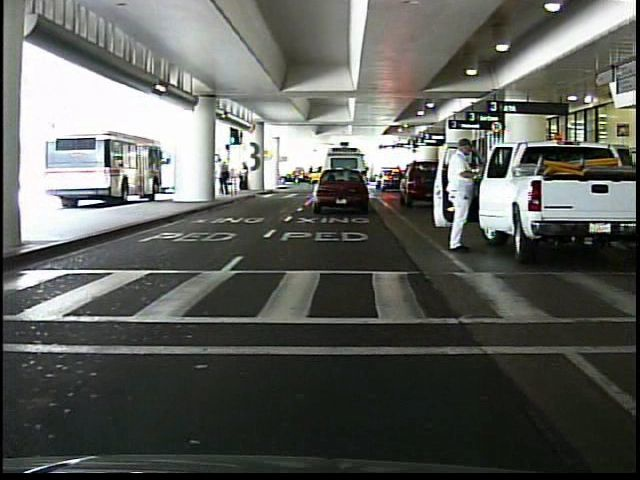person: (441, 133, 476, 255), (217, 155, 231, 199), (236, 163, 252, 196)
